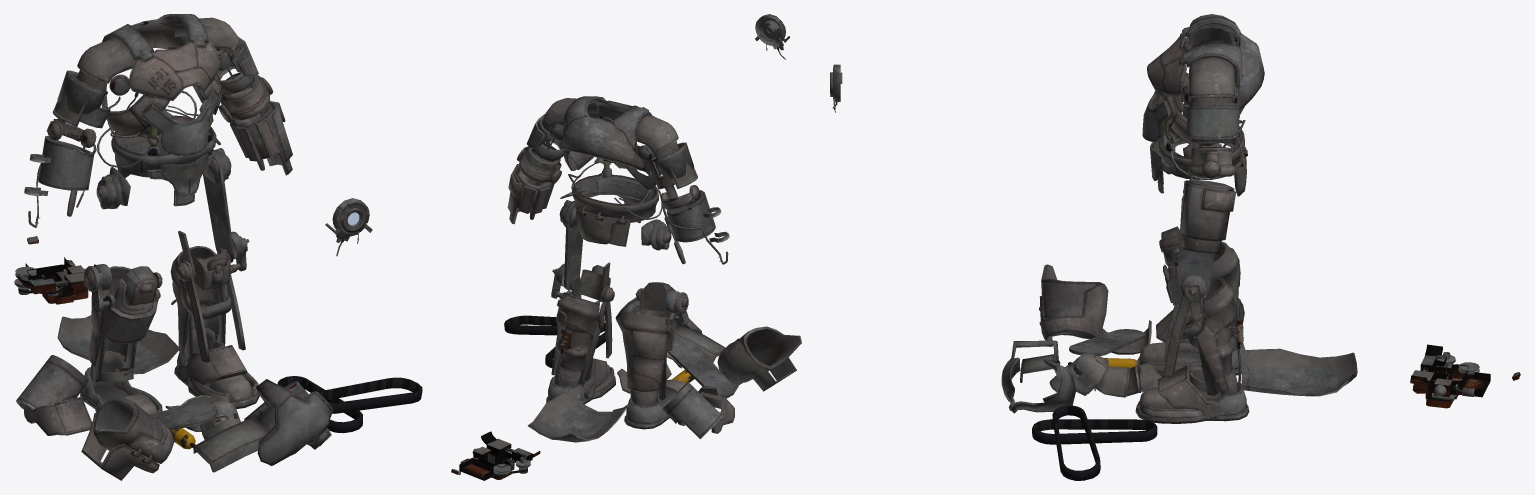
The model's file is scrableed.glb.
3 views of the same model, side by side, from view 1: azimuth 30°, elevation 25°; view 2: azimuth 150°, elevation 25°; view 3: azimuth 270°, elevation 25° (orthographic). The views are drawn at different scales.
Visible parts, largest first — view 1: arm_right, leg_right_thigh, leg_left_thigh, upperchest, traps, back_lats, back_engine, stomach, leg_left_knee_part7, leg_right_ring, waist, leg_right_foot_part1 (+38 smaller); view 2: arm_right, traps, leg_right_thigh, leg_right_calves, back_lats, waist, back_engine, leg_left_calves_part1, leg_right_wheel_support2, arm_right_shoulder, leg_left_wheel_support2, back_plate_1 (+25 smaller); view 3: back_lats, leg_right_thigh, back_engine, traps, leg_left_ring, leg_left_calves_part1, leg_left_thigh, arm_left_forearm_part2, arm_left_shoulder, arm_left_shoulder_sidedelt_part1, leg_left_foot_part1, upperchest (+15 smaller).
Part boxes in pixels (left/top/right/bottom): arm_right: left=16, top=107, right=110, bottom=409; leg_right_thigh: left=81, top=397, right=174, bottom=480; leg_left_thigh: left=244, top=379, right=333, bottom=465; upperchest: left=128, top=41, right=221, bottom=100; traps: left=102, top=14, right=208, bottom=60; back_lats: left=57, top=315, right=178, bottom=374; back_engine: left=14, top=236, right=95, bottom=304; stomach: left=142, top=89, right=219, bottom=156; leg_left_knee_part7: left=193, top=417, right=268, bottom=472; leg_right_ring: left=318, top=377, right=422, bottom=413; waist: left=111, top=115, right=216, bottom=177; leg_right_foot_part1: left=24, top=396, right=91, bottom=435; arm_right: left=646, top=158, right=728, bottom=439; traps: left=560, top=96, right=651, bottom=170; leg_right_thigh: left=717, top=326, right=801, bottom=391; leg_right_calves: left=620, top=311, right=668, bottom=391; back_lats: left=528, top=390, right=628, bottom=442; waist: left=572, top=174, right=658, bottom=222; back_engine: left=451, top=431, right=540, bottom=480; leg_left_calves_part1: left=551, top=292, right=600, bottom=384; leg_right_wheel_support2: left=667, top=339, right=734, bottom=397; arm_right_shoulder: left=637, top=114, right=678, bottom=152; leg_left_wheel_support2: left=564, top=202, right=582, bottom=290; back_plate_1: left=576, top=207, right=618, bottom=244; back_lats: left=1241, top=348, right=1357, bottom=396; leg_right_thigh: left=1039, top=264, right=1108, bottom=346; back_engine: left=1410, top=344, right=1520, bottom=408; traps: left=1180, top=16, right=1264, bottom=110; leg_left_ring: left=1032, top=419, right=1157, bottom=444; leg_left_calves_part1: left=1195, top=278, right=1236, bottom=392; leg_left_thigh: left=1001, top=340, right=1075, bottom=413; arm_left_forearm_part2: left=1179, top=182, right=1233, bottom=241; arm_left_shoulder: left=1189, top=57, right=1234, bottom=97; arm_left_shoulder_sidedelt_part1: left=1187, top=107, right=1239, bottom=140; leg_left_foot_part1: left=1157, top=365, right=1221, bottom=418; upperchest: left=1147, top=35, right=1186, bottom=95.
Size of the model in its own units: 12.2 by 12.68 by 21.97.
Materials: 8 (8 with a texture image).
